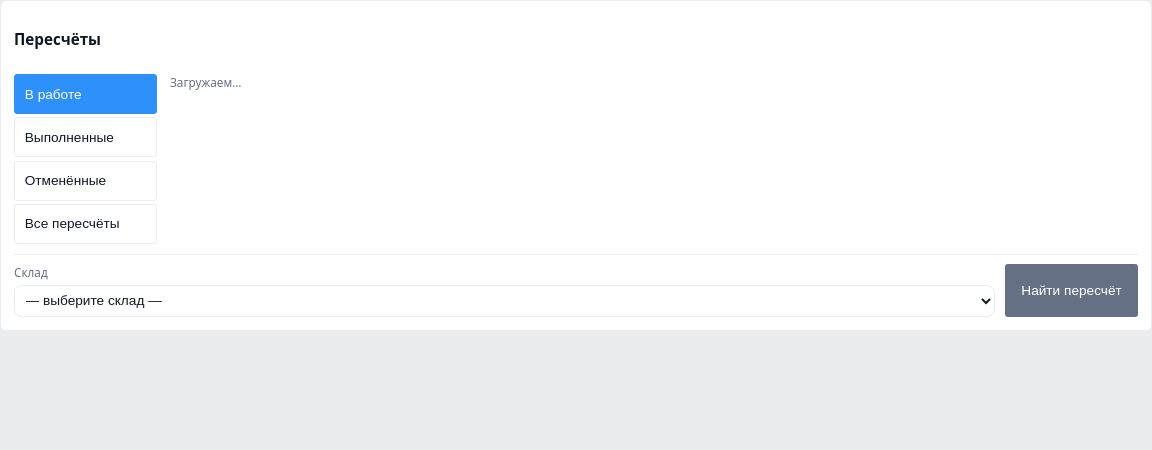
Scenario: журнал пересчётов › нажатие на строку открывает сведения без кнопок у отменённого пересчёта
What coordinates should you click on to do the following:
click the button "Отменённые"
I would click on:
 (86, 181)
Its box is x1=14 y1=161 x2=157 y2=201.
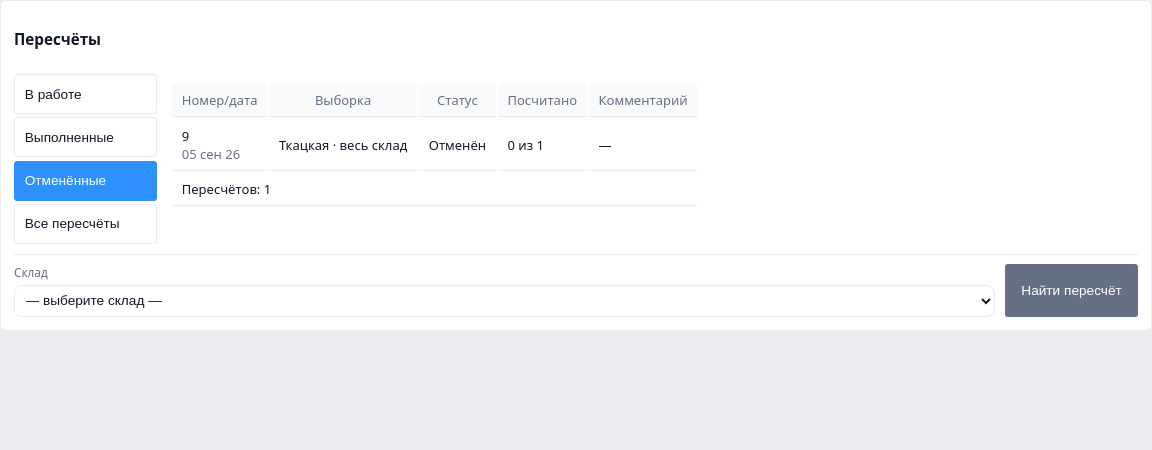
What coordinates should you click on to do the following:
click the text "Отменён"
I would click on:
 (457, 145)
Its box is x1=419 y1=119 x2=496 y2=171.
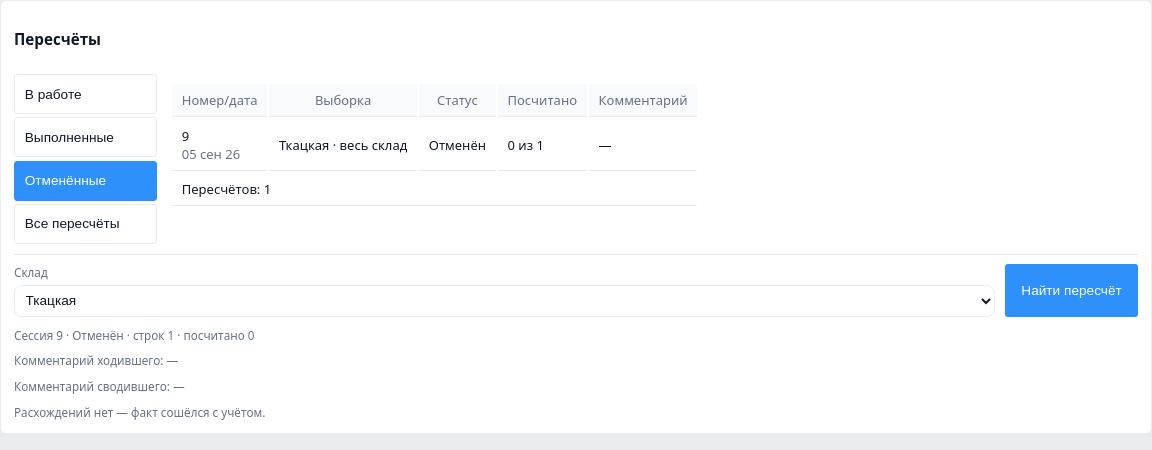
Expected: the text "Сессия 9 · Отменён · строк 1 · посчитано 0" is shown, x1=14 y1=327 x2=254 y2=343
